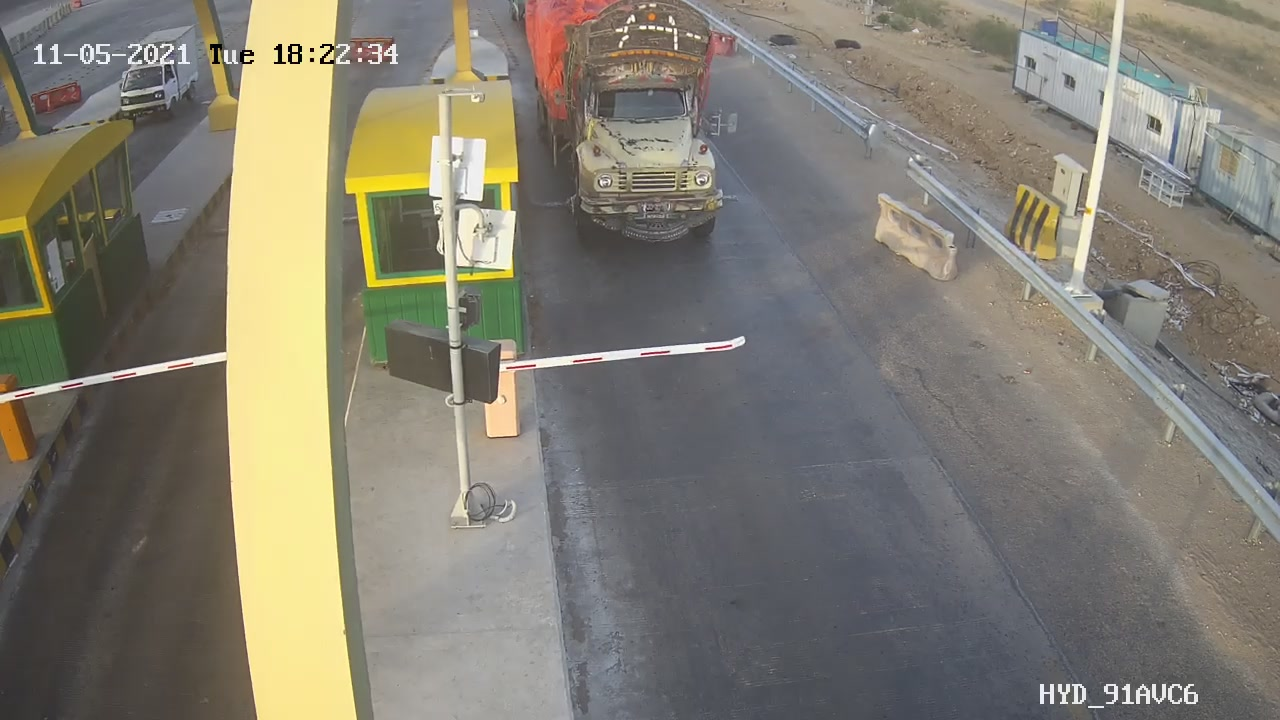F5: (547, 9, 741, 244)
